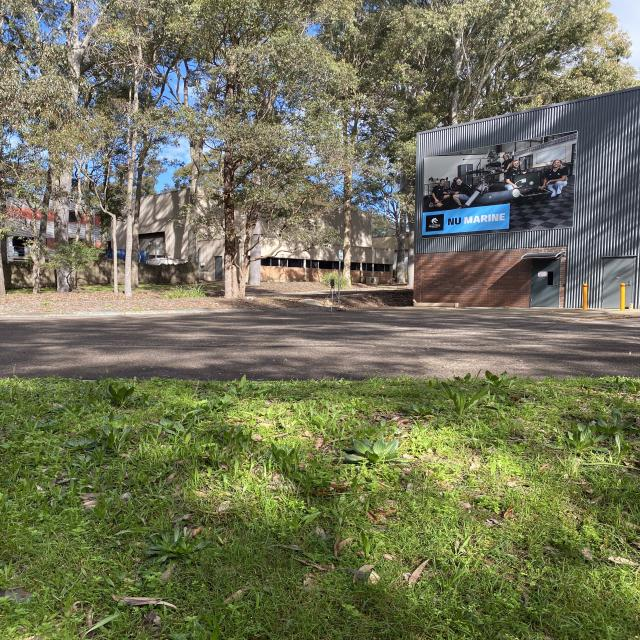matrix: (330, 278, 335, 286)
